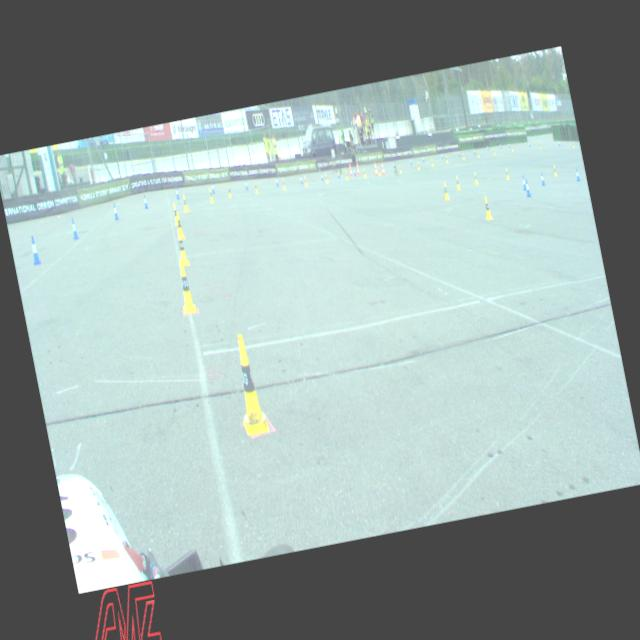blue_cone: (28, 235, 42, 265), (70, 218, 80, 240), (524, 179, 532, 197), (112, 203, 120, 220), (142, 194, 149, 209), (520, 174, 526, 190), (574, 168, 580, 182), (540, 172, 546, 186), (174, 187, 180, 200), (211, 182, 216, 194), (336, 170, 341, 180), (244, 179, 248, 190), (320, 172, 324, 182), (300, 175, 304, 185), (276, 176, 280, 186), (353, 167, 357, 176), (472, 148, 476, 155), (441, 152, 444, 160), (528, 140, 531, 147), (508, 142, 511, 148), (499, 143, 502, 149), (486, 145, 489, 151), (410, 157, 412, 165), (558, 139, 560, 146), (422, 156, 424, 163), (392, 161, 394, 168), (458, 151, 460, 157)
large_orange_cone: (348, 162, 354, 176), (373, 161, 378, 177), (380, 162, 386, 175), (356, 162, 360, 175)
yellow_cone: (228, 332, 270, 436), (174, 260, 197, 314), (176, 230, 189, 266), (176, 212, 185, 239), (482, 196, 492, 220), (172, 202, 180, 225), (182, 194, 190, 212), (454, 174, 462, 190), (442, 182, 449, 200), (208, 187, 215, 203), (226, 184, 232, 198), (473, 172, 479, 185), (504, 168, 510, 180), (282, 178, 287, 190), (553, 165, 558, 176), (254, 181, 258, 194), (304, 176, 308, 187), (324, 174, 328, 184), (362, 168, 366, 178), (377, 166, 381, 176), (398, 164, 402, 173), (345, 171, 349, 180), (538, 142, 542, 150), (430, 158, 434, 166), (417, 162, 420, 170), (445, 155, 448, 163), (511, 144, 514, 152), (476, 150, 479, 158), (462, 152, 465, 160), (492, 148, 495, 155), (572, 141, 574, 148)
